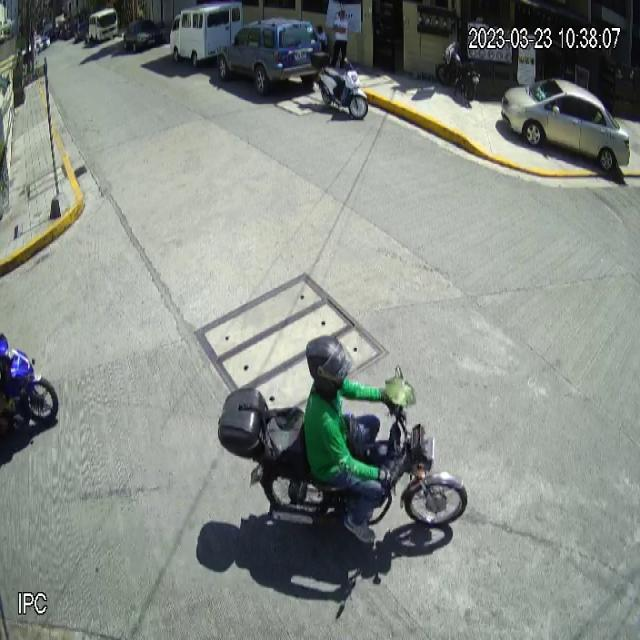Car: (500, 77, 631, 173), (217, 17, 323, 89)
Motorcycle: (216, 364, 468, 530), (310, 48, 368, 122)
Van: (170, 0, 243, 70)
